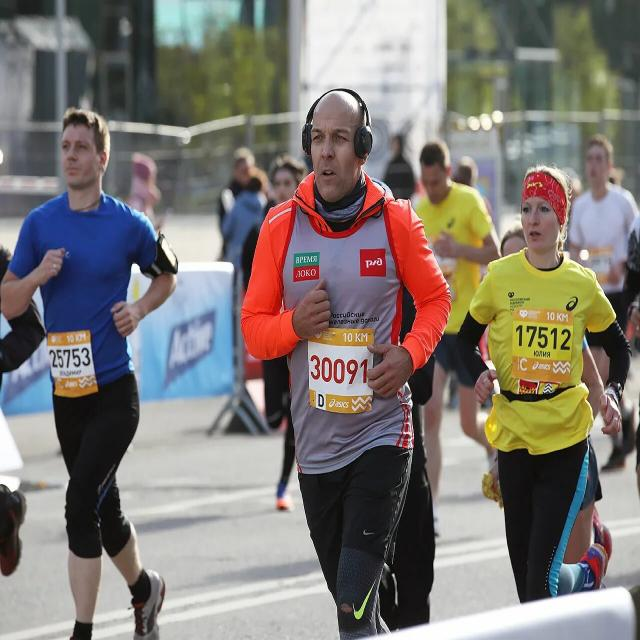Bib: (309, 355, 370, 391), (514, 326, 574, 356), (49, 341, 90, 371)
